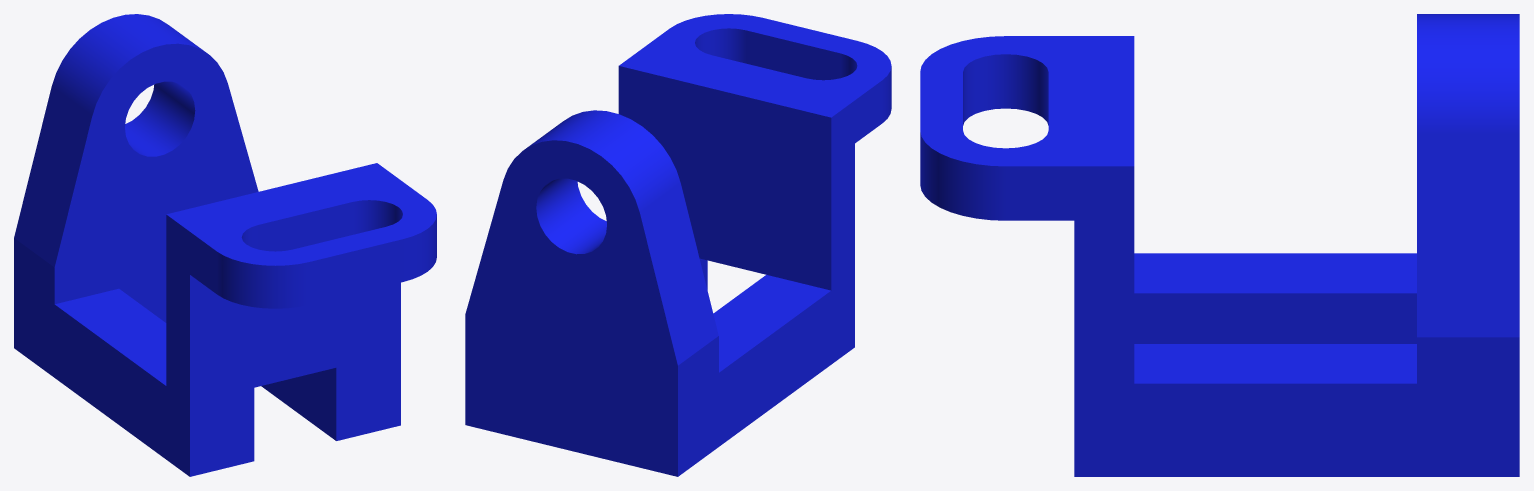
The model's file is asset.glb.
3 views of the same model, side by side, from view 1: azimuth 30°, elevation 25°; view 2: azimuth 150°, elevation 25°; view 3: azimuth 270°, elevation 25° (orthographic). The views are drawn at different scales.
Visible parts, largest first — view 1: Solid3; view 2: Solid3; view 3: Solid3.
Boxes of the visible parts, left/top/right/bottom form: Solid3: left=14, top=14, right=436, bottom=476; Solid3: left=465, top=14, right=891, bottom=476; Solid3: left=920, top=14, right=1519, bottom=476.
Bounding box in the file's own units: 0.036 × 0.05 × 0.07.
